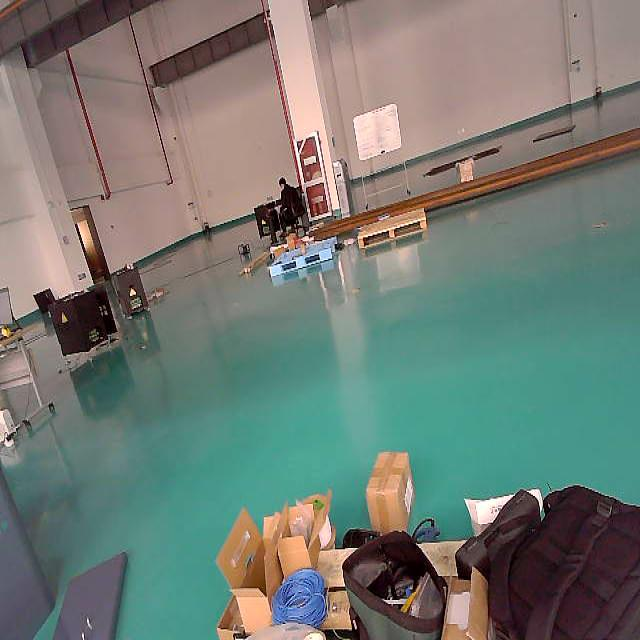euro: (358, 209, 428, 253)
